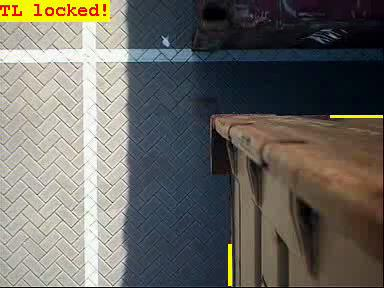groundmarker_2: (98, 64, 203, 165)
